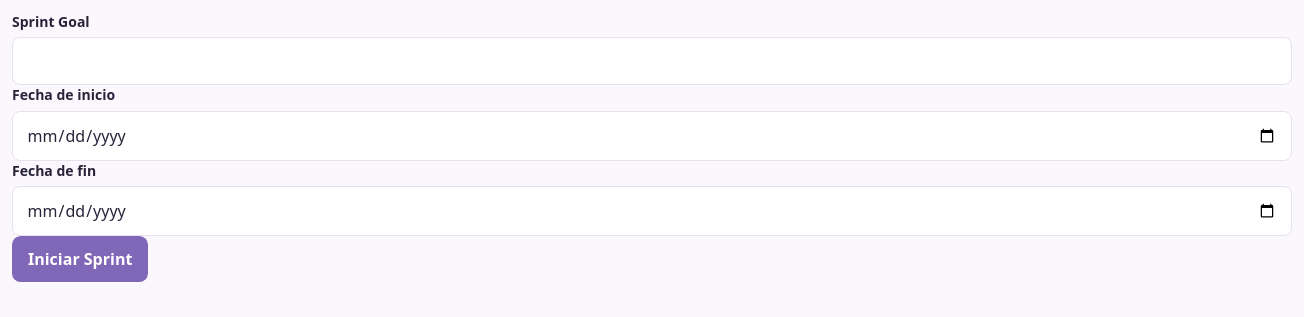
FormularioInicio › muestra en un aviso un error con un campo que el formulario no tiene
This screenshot has width=1304, height=317.
Type "Meta" into the field labelled "Sprint Goal" at x=652, y=61, box [12,37,1292,85]
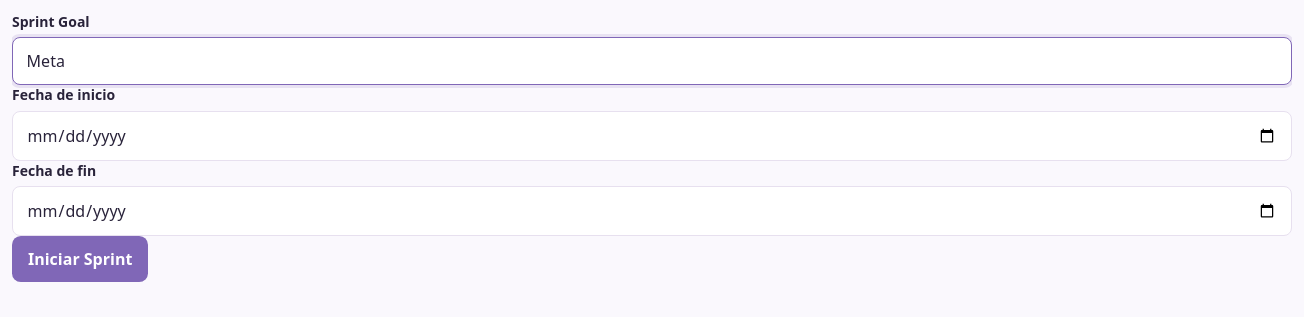
Type "2026-10-01" into the date field labelled "Fecha de inicio" at x=652, y=136, box [12,111,1292,161]
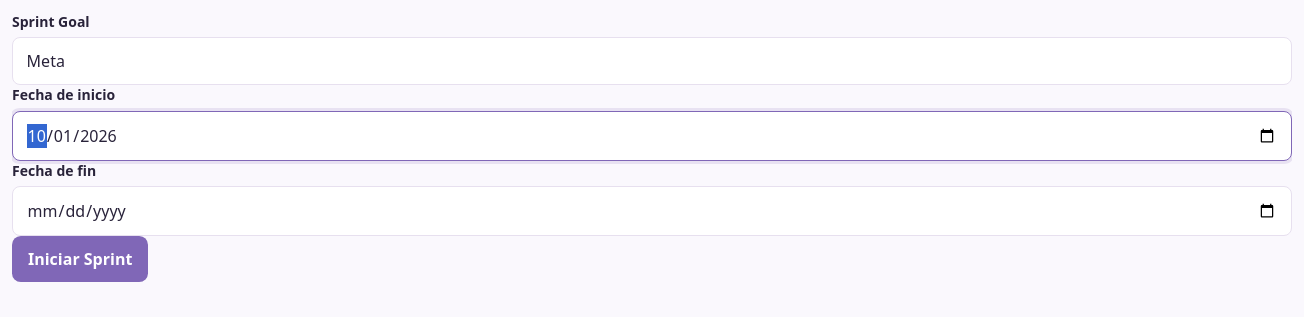
Type "2026-10-15" into the date field labelled "Fecha de fin" at x=652, y=211, box [12,186,1292,236]
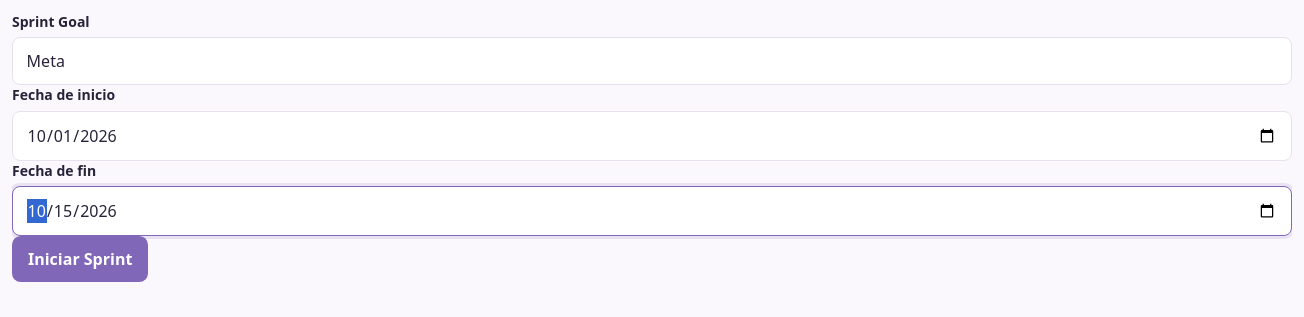
Click the button "Iniciar Sprint" at x=80, y=259, box [12,236,148,282]
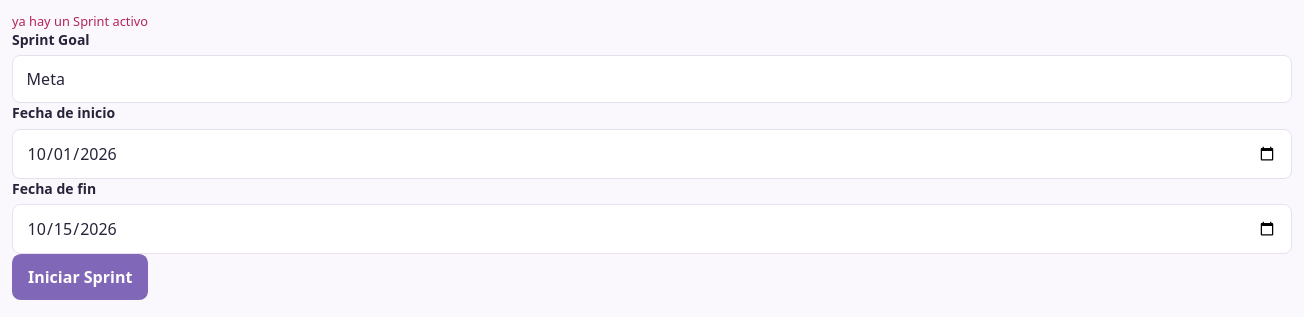
Expected: the message reads "ya hay un Sprint activo", [12,12,148,30]
